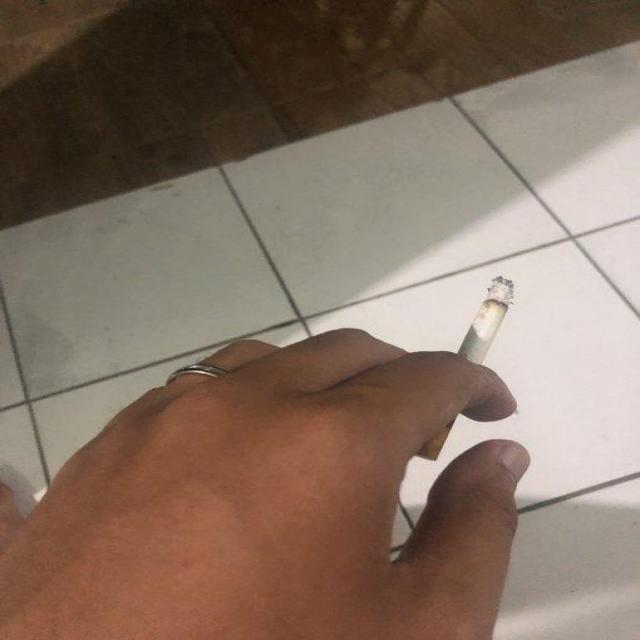rokok: (410, 268, 524, 464)
